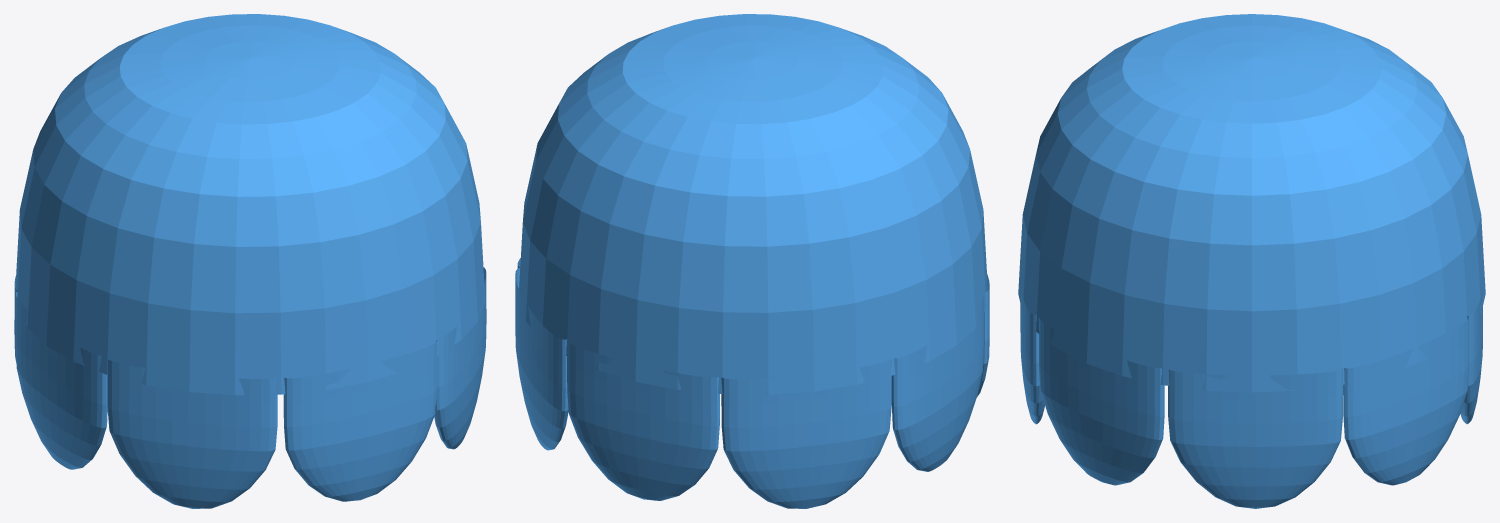
Rendered from nakji_one.fbx.
3 renders of one model, left to right at view 1: azimuth 30°, elevation 25°; view 2: azimuth 150°, elevation 25°; view 3: azimuth 270°, elevation 25°, orthographic.
Parts seen in each view (by area): view 1: body; view 2: body; view 3: body.
Part boxes in pixels (x1=…): body: x1=14, y1=14, x2=486, y2=508; body: x1=515, y1=14, x2=989, y2=508; body: x1=1018, y1=14, x2=1485, y2=508.
Bounding box in the file's own units: 200 × 200 × 170.
